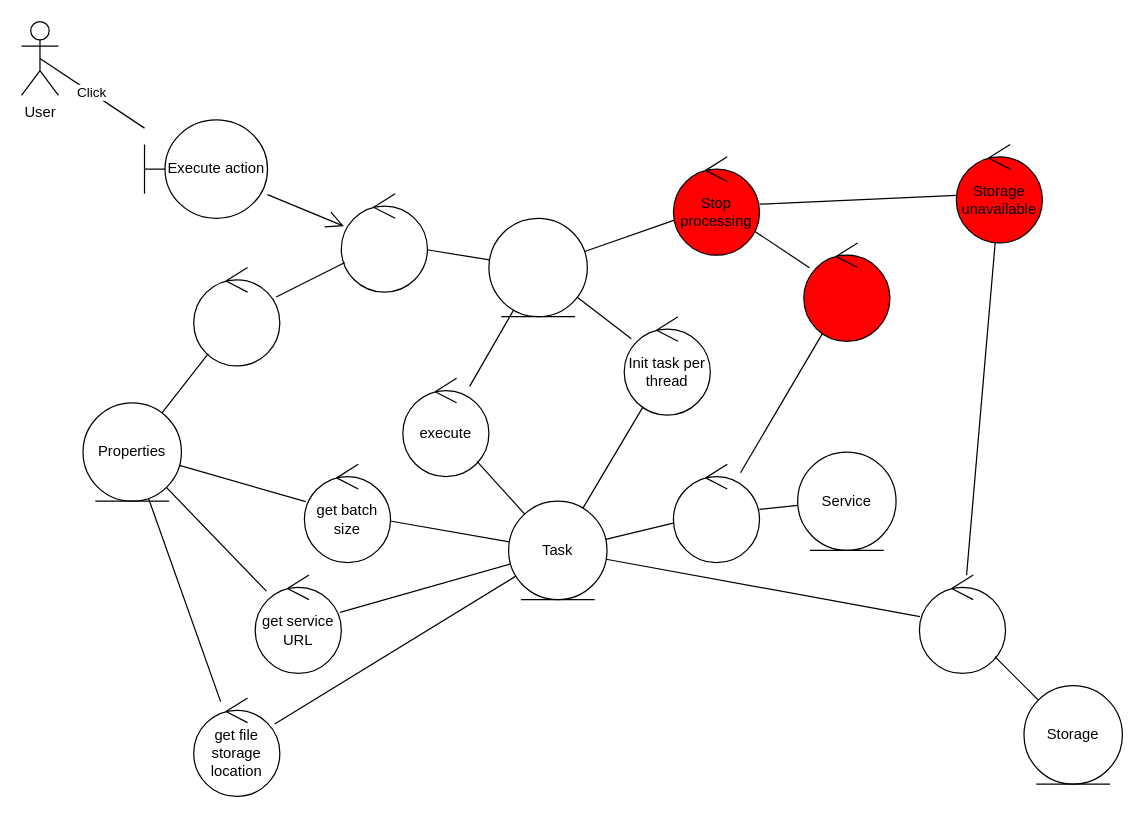
The diagram is 1144 pixels wide and 818 high, and some of its shapes have lost their labels. The box of each missing label's shape, as (x1, y1, x2, y2) in pixels:
get thread size: (192, 266, 280, 366)
I/O to service: (672, 463, 760, 563)
I/O to storage: (918, 574, 1006, 673)
Processor: (488, 217, 587, 317)
Service unavailable: (803, 242, 890, 341)
Start processing: (340, 192, 427, 292)
